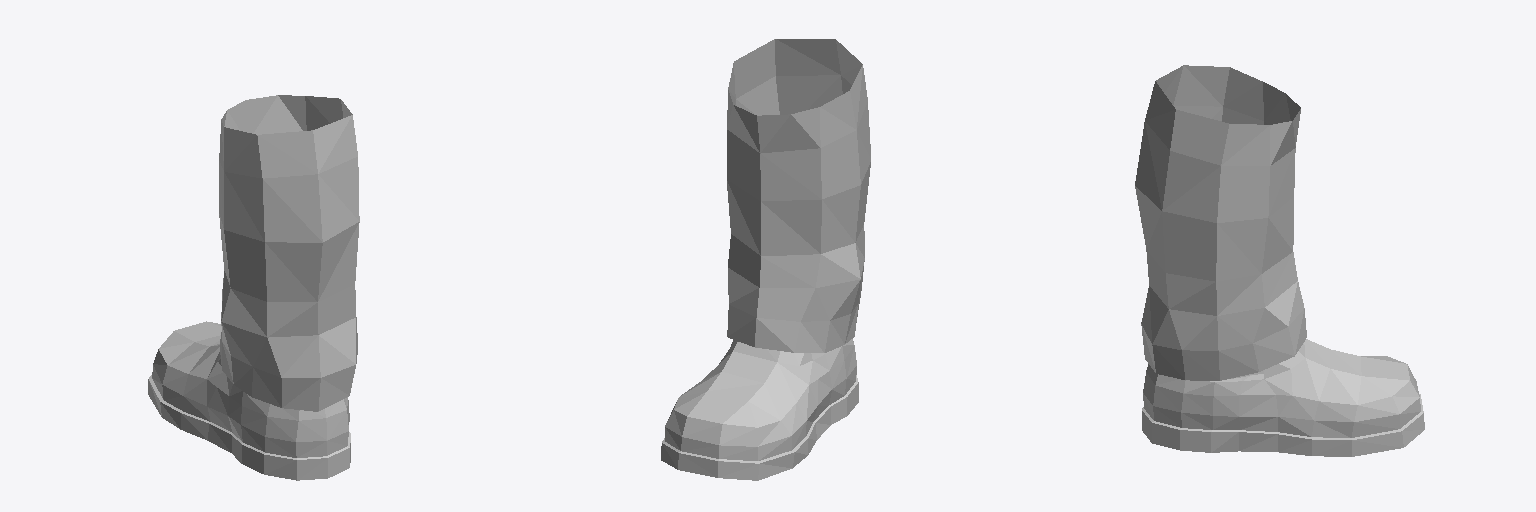
The model's file is zIzqOak.obj.
3 renders of one model, left to right at view 1: azimuth 30°, elevation 25°; view 2: azimuth 150°, elevation 25°; view 3: azimuth 270°, elevation 25°, orthographic.
Visible parts, largest first — view 1: LLeg, LFoot, LToe; view 2: LLeg, LToe, LFoot; view 3: LLeg, LFoot, LToe.
Boxes of the visible parts, <box> form: LLeg: <box>219,95,359,406</box>; LFoot: <box>181,332,355,480</box>; LToe: <box>148,321,221,429</box>; LLeg: <box>727,39,870,352</box>; LToe: <box>661,372,807,480</box>; LFoot: <box>703,304,858,454</box>; LLeg: <box>1135,65,1303,380</box>; LFoot: <box>1141,308,1329,455</box>; LToe: <box>1312,349,1424,456</box>.
Bounding box in the file's own units: 14.03 × 36.27 × 27.63.